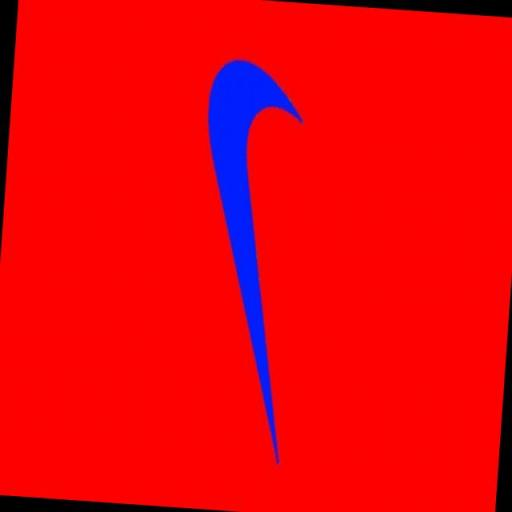Nike: (174, 45, 326, 480)
